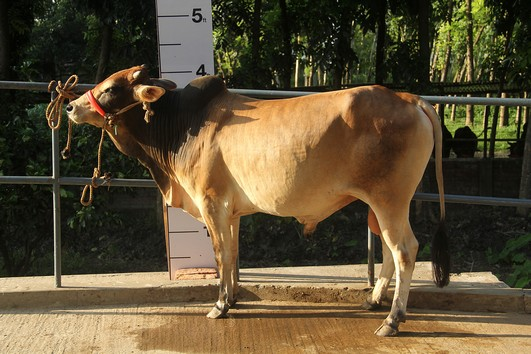cow: (58, 56, 456, 341)
